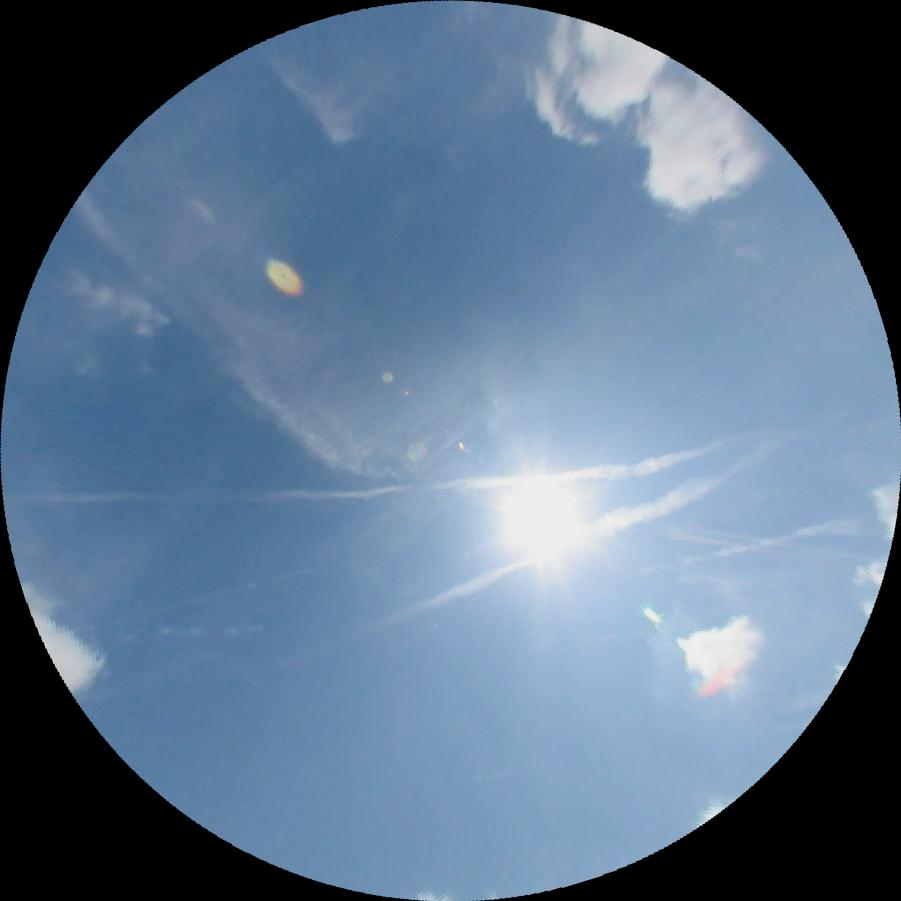contrail veryold: (283, 428, 800, 682), (5, 442, 718, 527)
parasite: (43, 562, 325, 642)
sun: (510, 479, 578, 542)
unknow: (641, 517, 862, 572)
